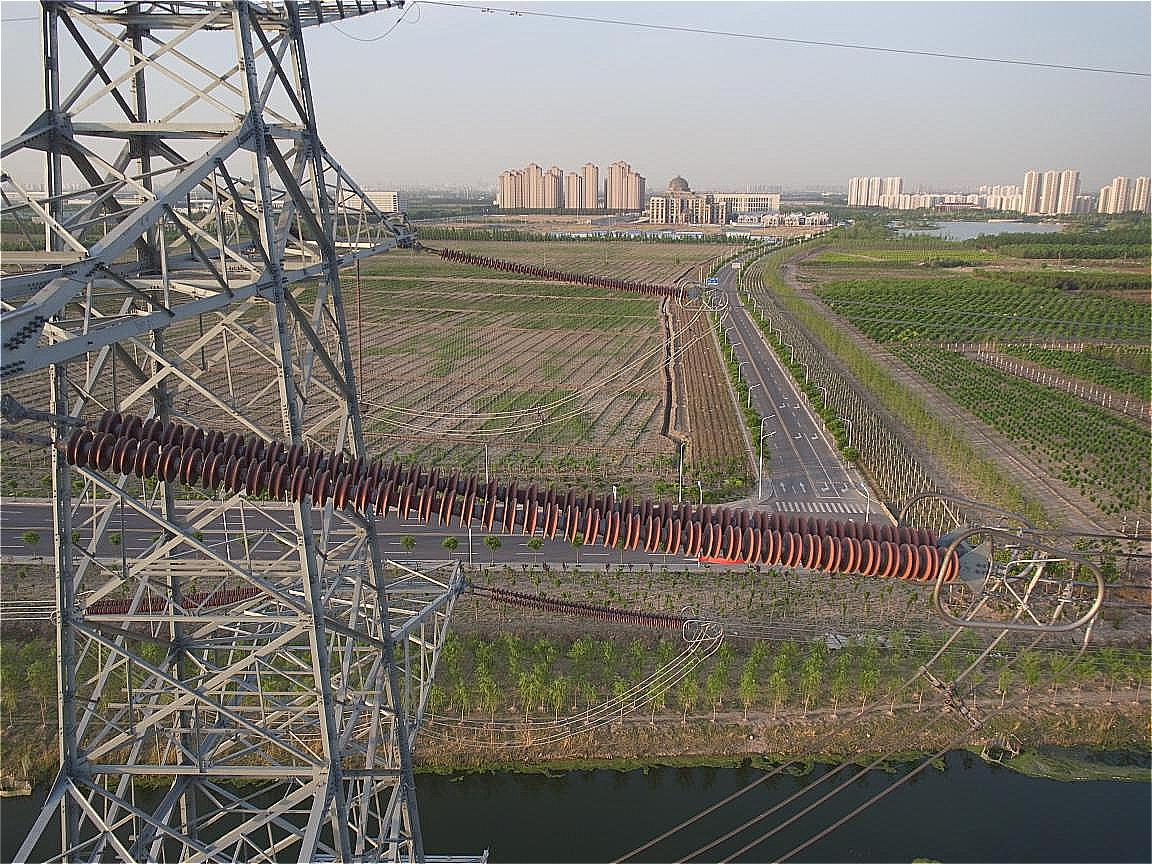insultor2: (49, 410, 1022, 600)
